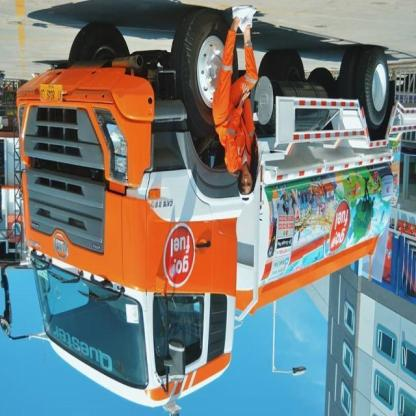truck: (6, 24, 407, 409)
